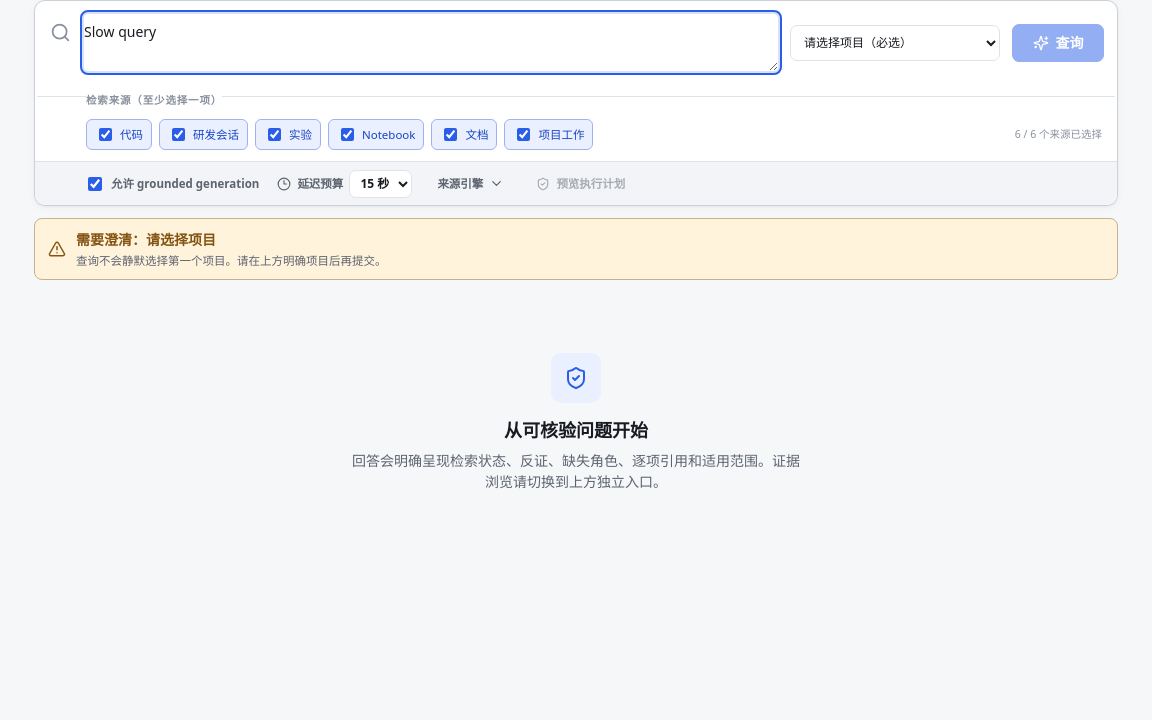
it: TrustedQueryPanel › distinguishes a client timeout from a user cancellation
The width and height of the screenshot is (1152, 720).
Select "Evidence RAG" in the dropdown named "可信查询项目" at x=895, y=43, box [790,25,1000,61]
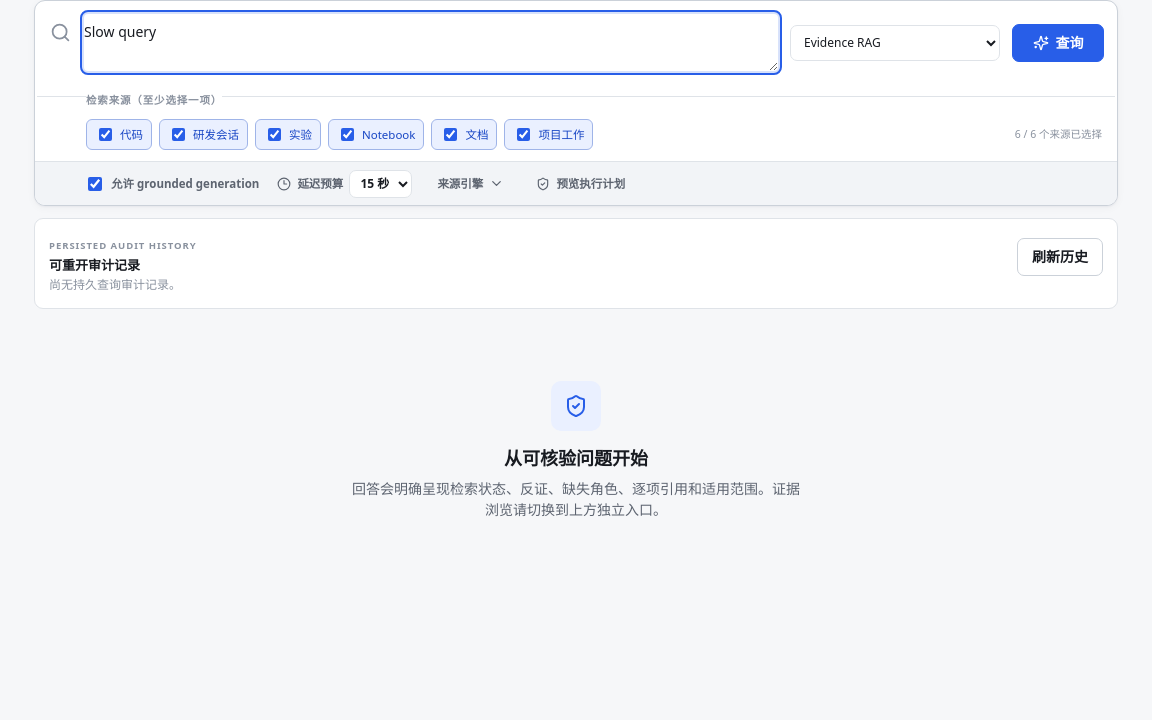
Click the button "查询" at x=1058, y=43, box [1012,24,1104,62]
Wait 16500 ms
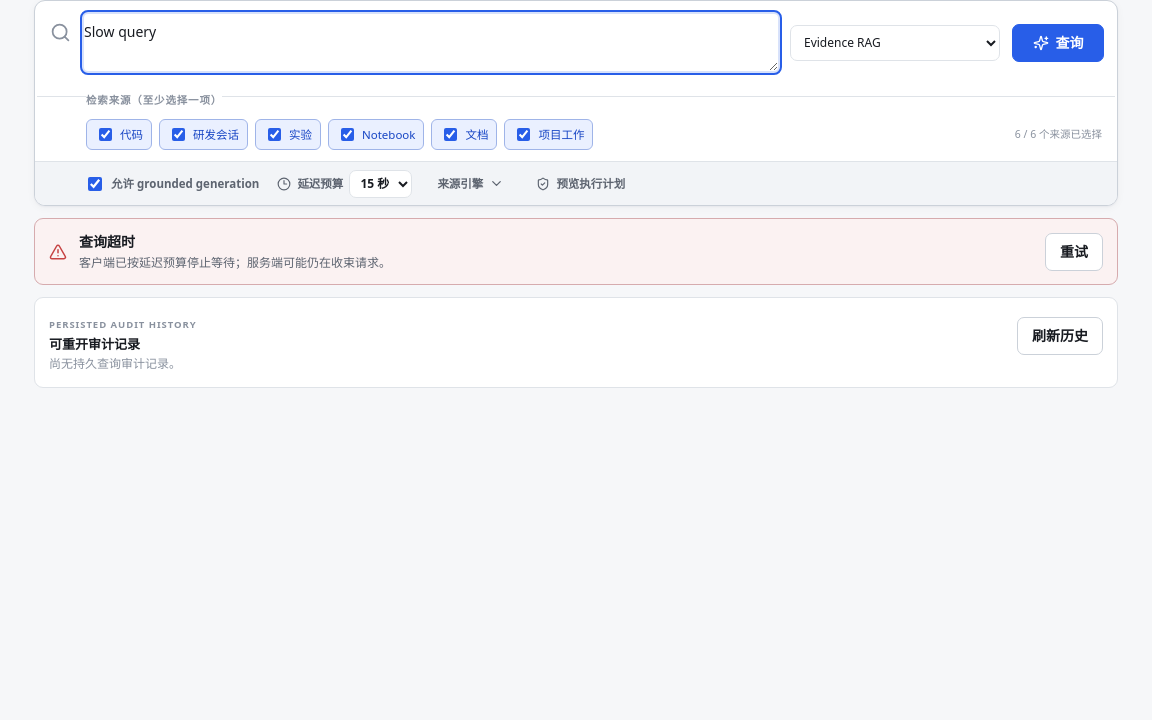
Now the text "查询超时" is shown, box [79,232,135,251]
Now the text "客户端已按延迟预算停止等待；服务端可能仍在收束请求。" is shown, box [79,254,391,272]
